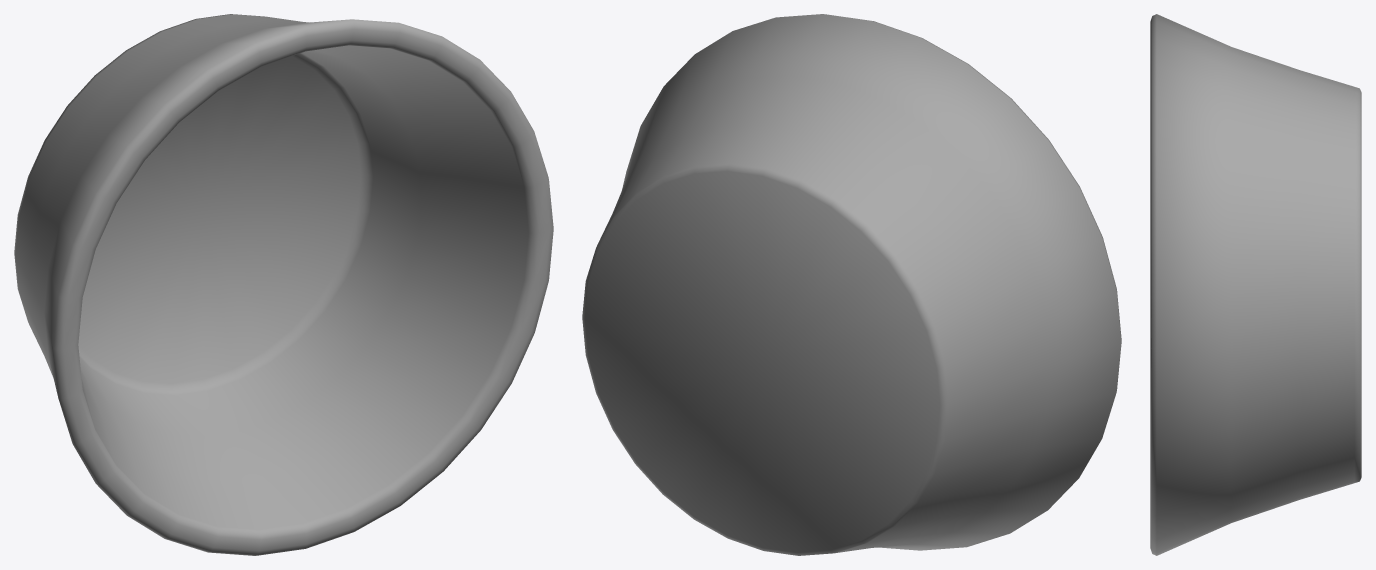
The model's file is MeshBowl_20_0_GeomSubset_0.obj.
The picture shows the model from 3 angles, left to right: view 1: azimuth 30°, elevation 25°; view 2: azimuth 150°, elevation 25°; view 3: azimuth 270°, elevation 25°; orthographic projection. The views are drawn at different scales.
Parts seen in each view (by area): view 1: MeshBowl_20_0_GeomSubset_0; view 2: MeshBowl_20_0_GeomSubset_0; view 3: MeshBowl_20_0_GeomSubset_0.
Part boxes in pixels (bbox=[...]): MeshBowl_20_0_GeomSubset_0: bbox=[14, 14, 553, 555]; MeshBowl_20_0_GeomSubset_0: bbox=[582, 14, 1121, 555]; MeshBowl_20_0_GeomSubset_0: bbox=[1150, 14, 1361, 555].
Size of the model in its own units: 0.2096 by 0.2096 by 0.0816.
